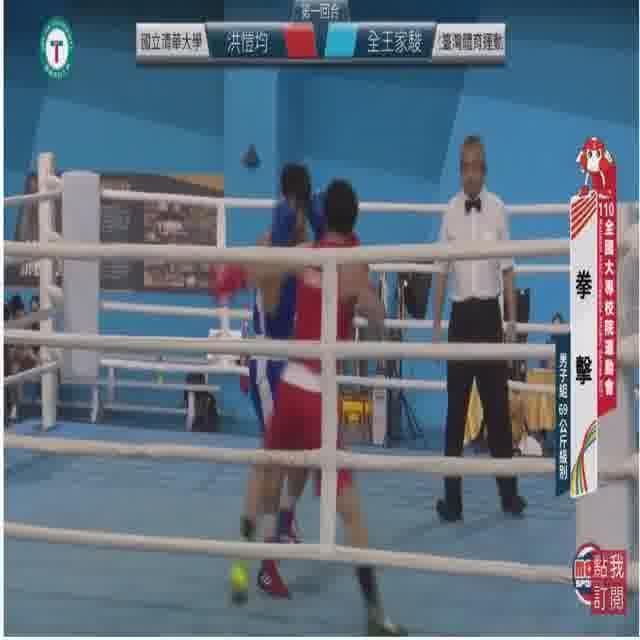blue-player: (244, 157, 343, 601)
red-player: (202, 176, 409, 636)
referee: (428, 132, 528, 525)
